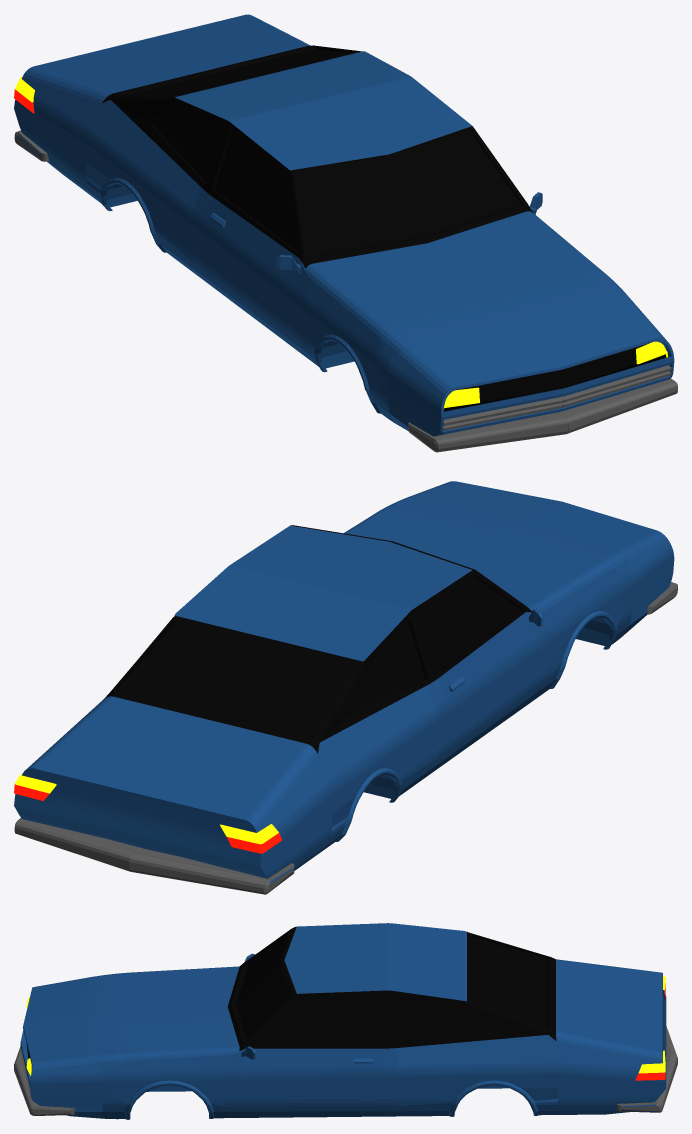
The model's file is charger1960.fbx.
The picture shows the model from 3 angles, top to bottom: view 1: azimuth 30°, elevation 25°; view 2: azimuth 150°, elevation 25°; view 3: azimuth 270°, elevation 25°; orthographic projection. The views are drawn at different scales.
Parts seen in each view (by area): view 1: Car body; view 2: Car body; view 3: Car body.
Boxes of the visible parts, x1,y1,x2,y2 form: Car body: [14, 14, 677, 452]; Car body: [14, 481, 677, 894]; Car body: [14, 923, 677, 1119].
Bounding box in the file's own units: 350 × 200 × 1000.
